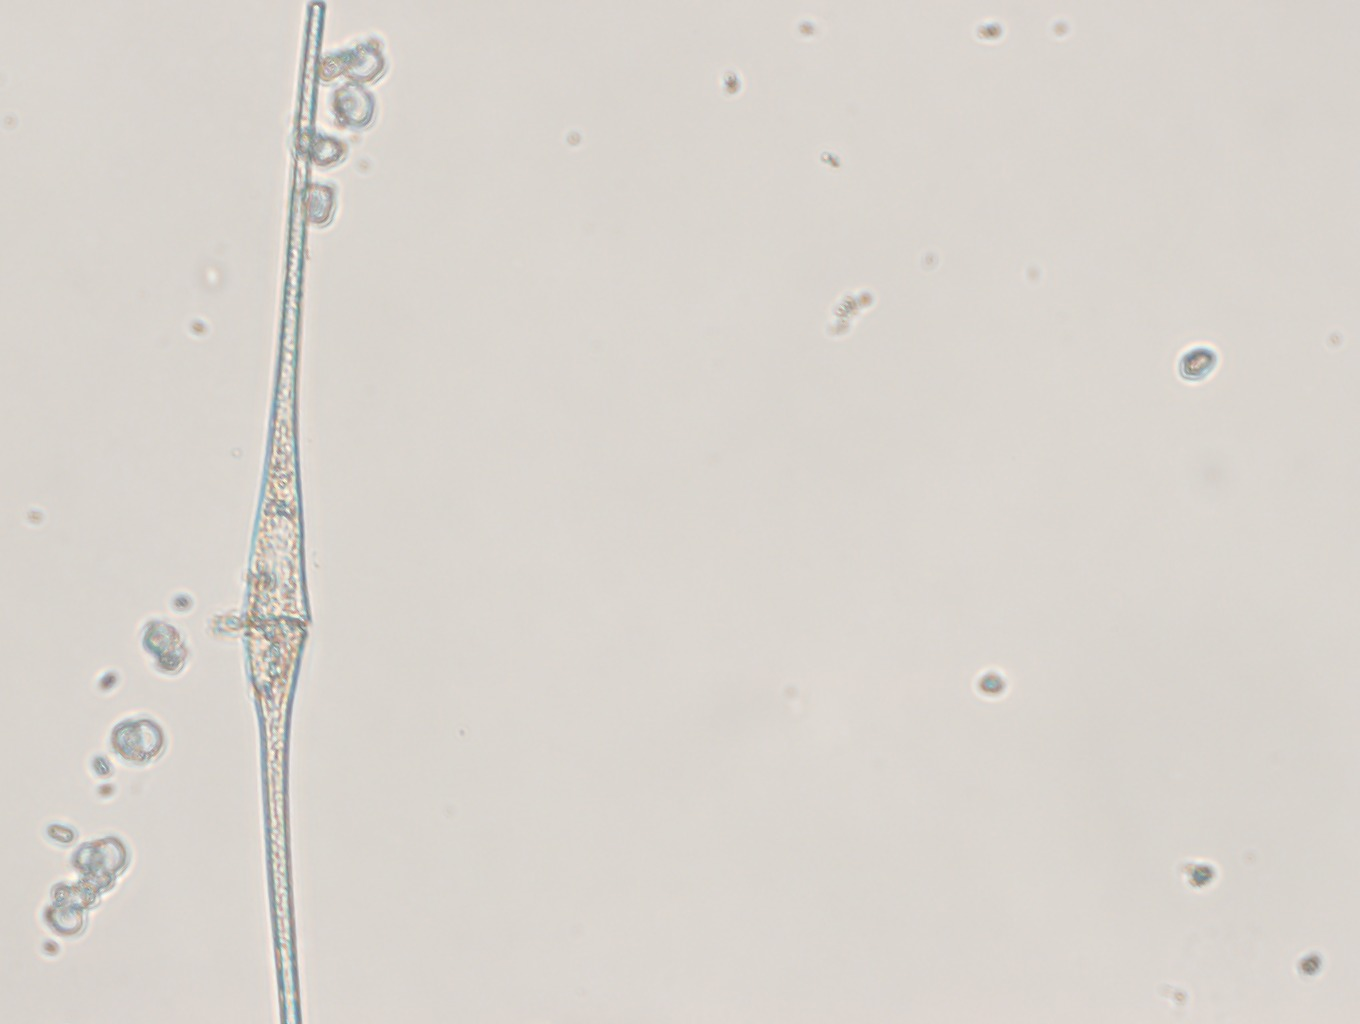ceratium fusus: (240, 1, 332, 1021)
